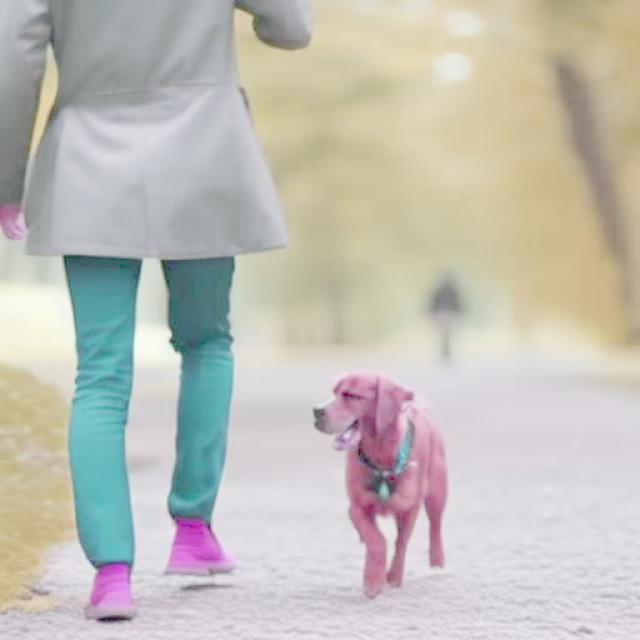Unleashed_Dog: (80, 254, 449, 600)
